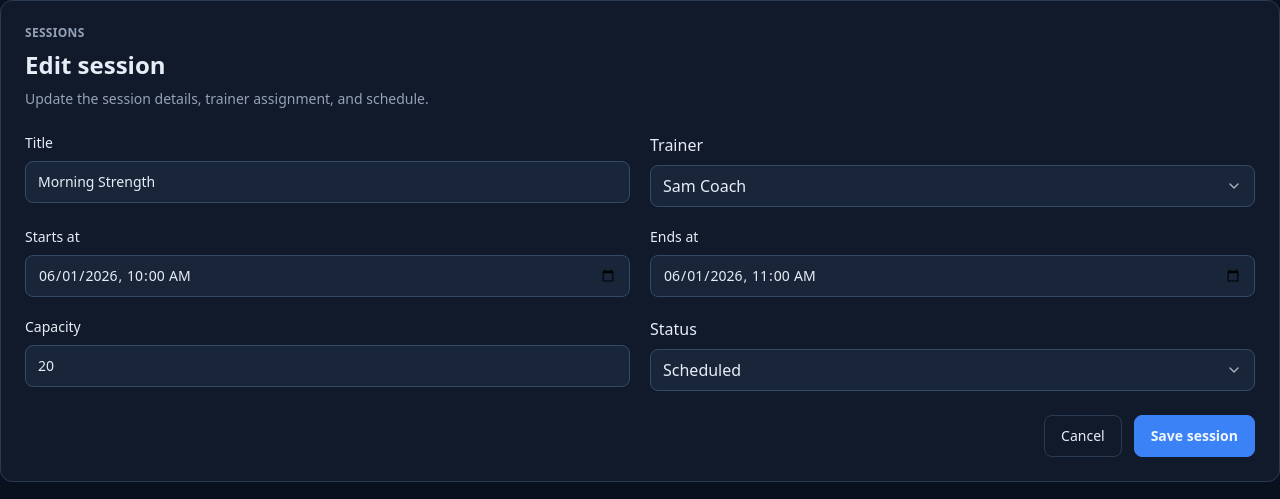
Scenario: EditSessionForm › renders existing session values and trainer options
Expected: the heading "Edit session" is shown, [25,48,166,81]
Expected: the field labelled "Title" holds "Morning Strength", [25,161,630,203]
Click the button with aria-label "trainer" at (705, 186), box [650,165,1255,207]
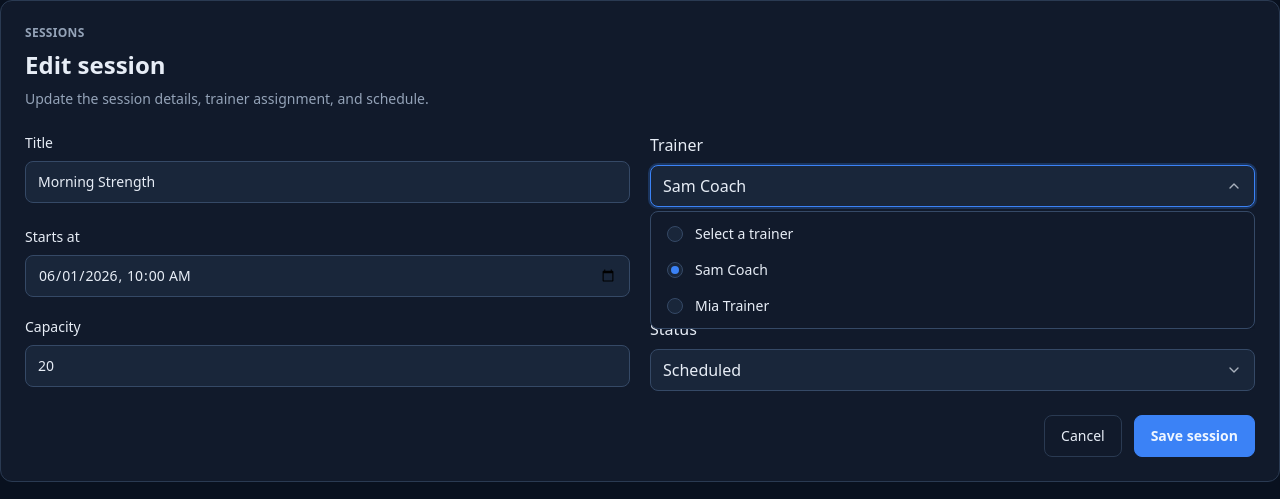
Expected: the field labelled "Starts at" holds "2026-06-01T10:00", [25,255,630,297]
Now the radio button with aria-label "trainer: sam coach" is checked, box [667,260,768,279]
Now the radio button with aria-label "trainer: mia trainer" is shown, box [667,296,769,315]
